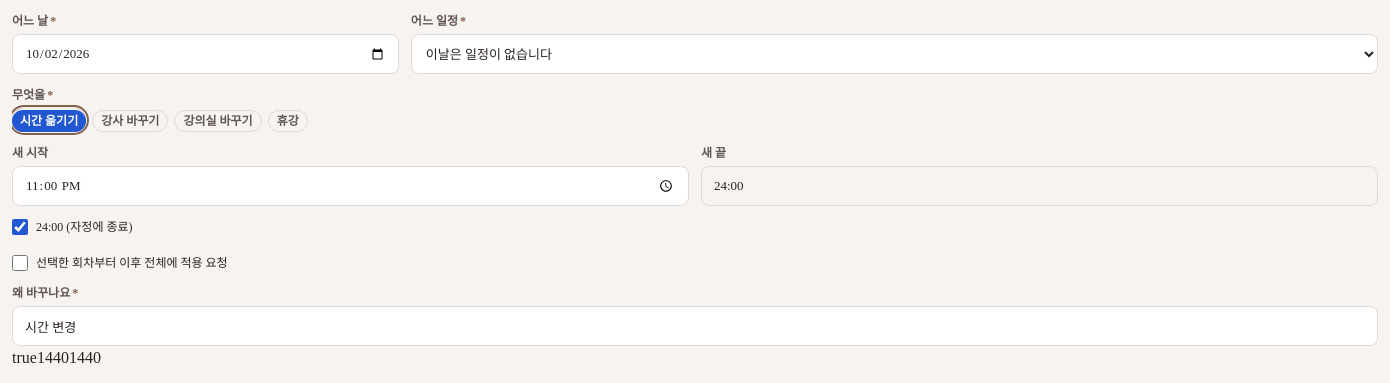
변경 요청의 24:00 종료는 화면에 보이고 1440분 계약으로 유지된다 (UX-13C2b)
Expected: the message named "새 끝 시각" reads "24:00", 714,178 -> 744,193
Expected: the text with test id "body-end" reads "1440", 69,349 -> 101,366
Click the checkbox labelled "24:00 (자정에 종료)" at (20, 227), box 12,219 -> 28,235
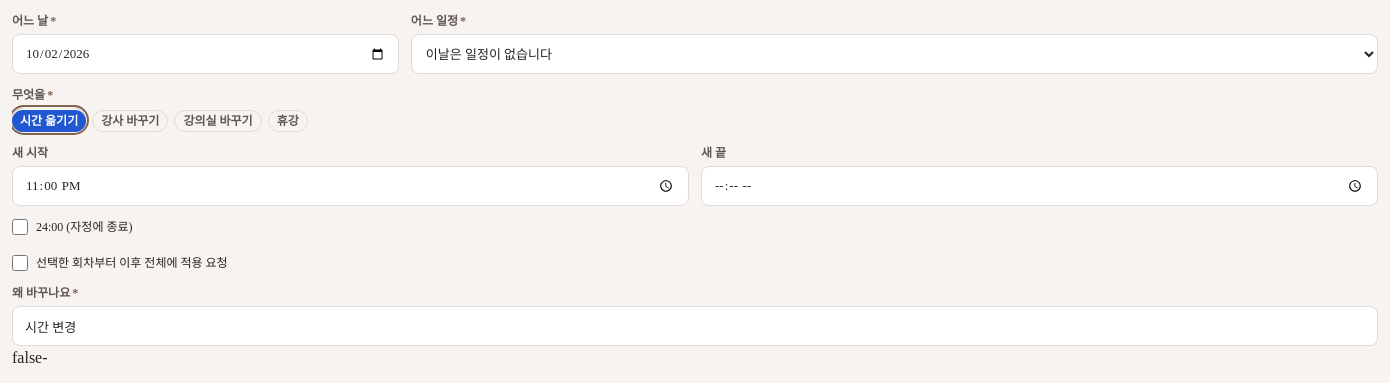
Expected: the time field labelled "새 끝" is empty
Expected: the text with test id "ready" reads "false", 12,349 -> 42,366
Type "23:30" into the time field labelled "새 끝" at (1040, 186), box 701,166 -> 1378,206
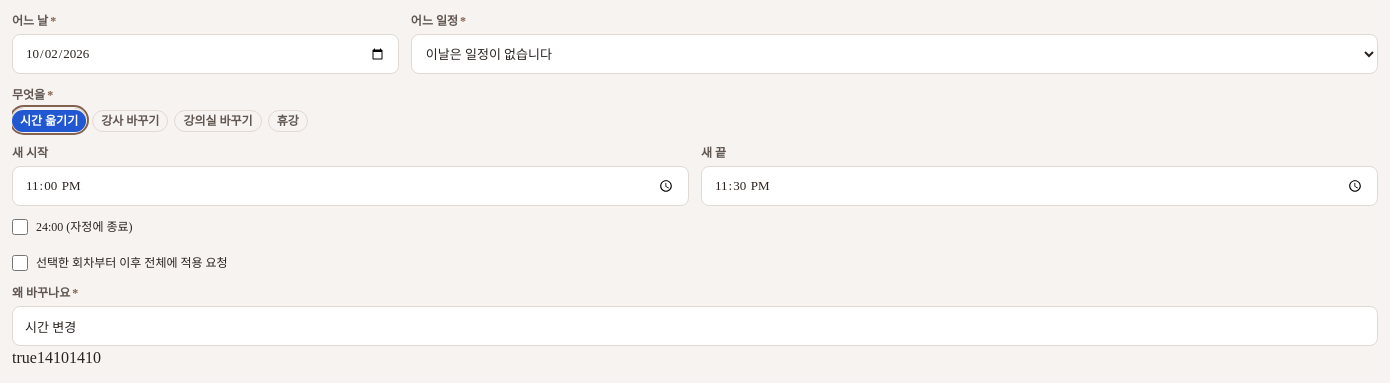
Expected: the text with test id "body-end" reads "1410", 69,349 -> 101,366
